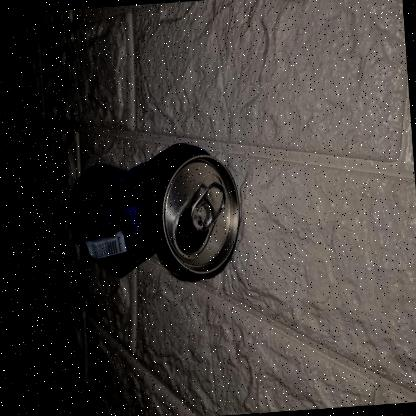Can: (64, 137, 244, 293)
